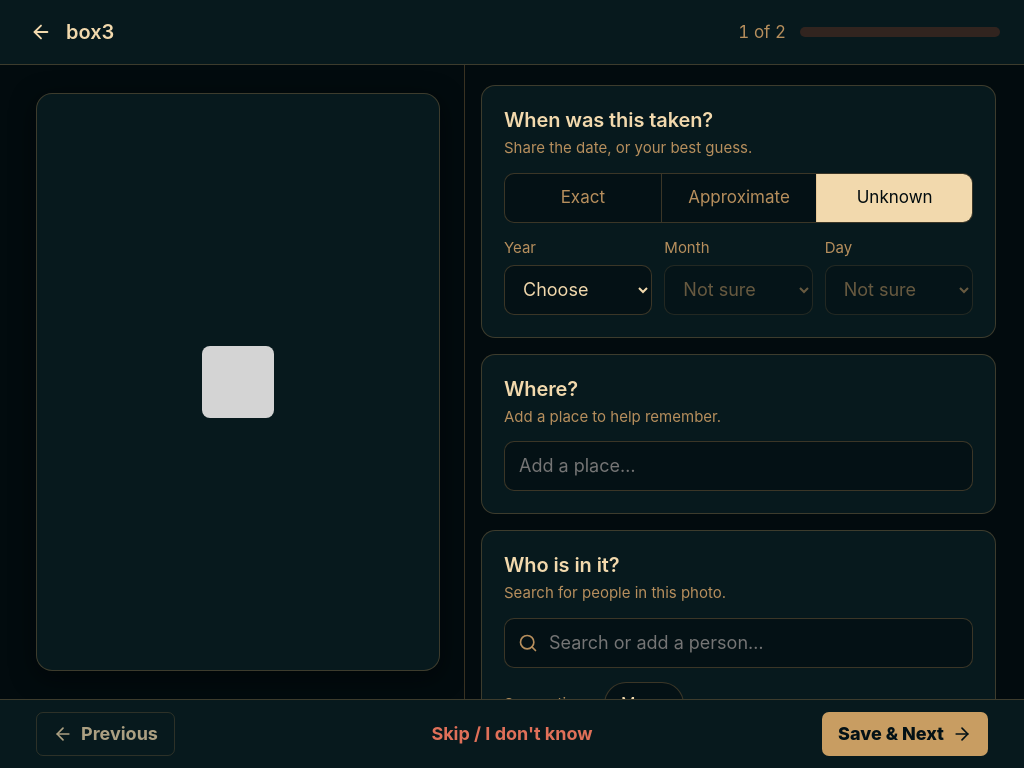
Test: ReviewPage › looks a place up online only when asked, and a pin can be left off
Expected: the text "1 of 2" is shown, [738, 20, 786, 44]
Type "Ratomka" into the field named "Where?" at (738, 466), box [504, 441, 973, 491]
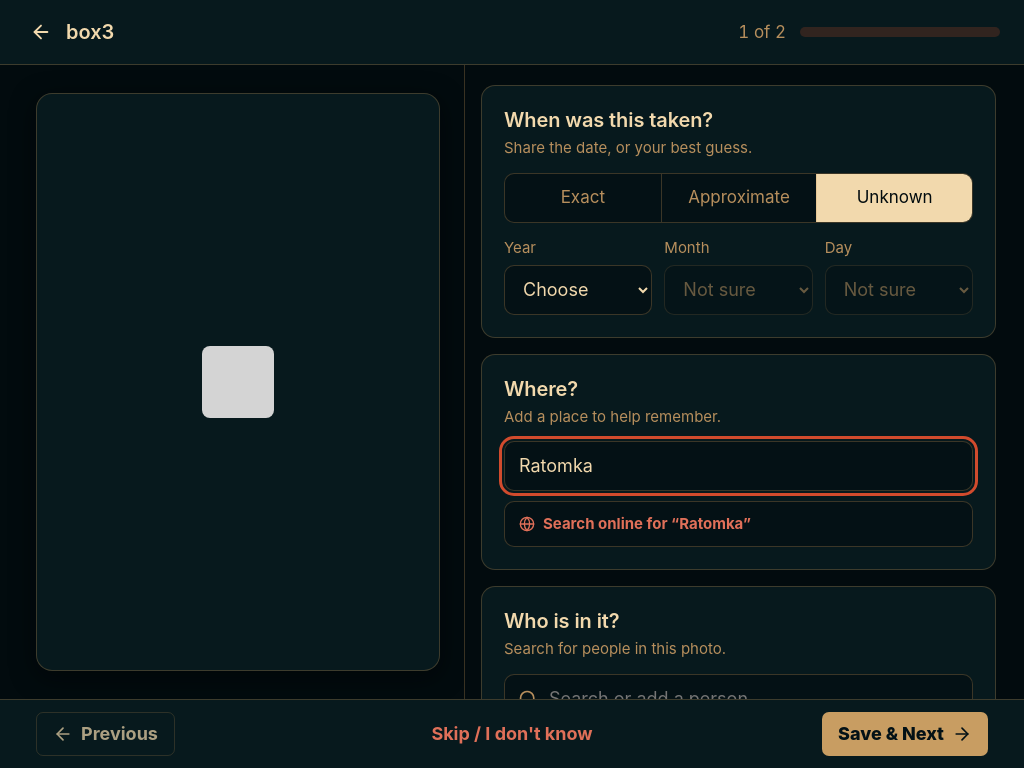
Click the button "Search online for “Ratomka”" at (635, 524), box [509, 506, 761, 542]
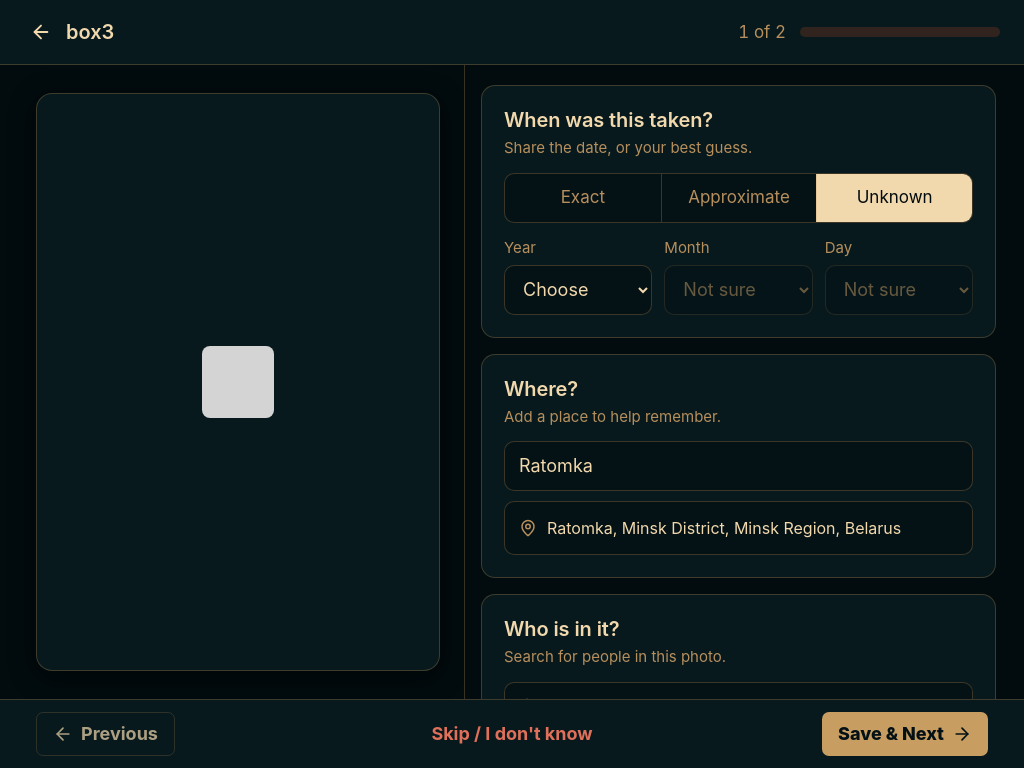
Click the button "Ratomka, Minsk District, Minsk Region, Belarus" at (738, 528), box [509, 506, 968, 550]
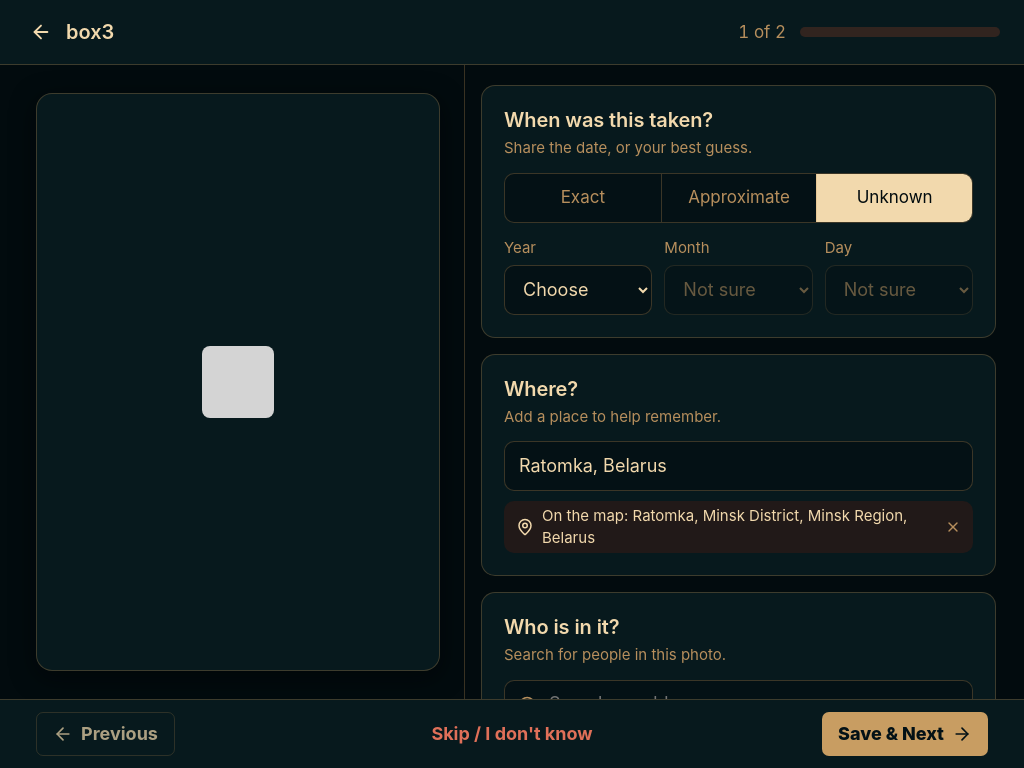
Expected: the field named "Where?" holds "Ratomka, Belarus", [504, 441, 973, 491]
Click the button named "Do not put it on the map" at (953, 527), box [937, 511, 969, 543]
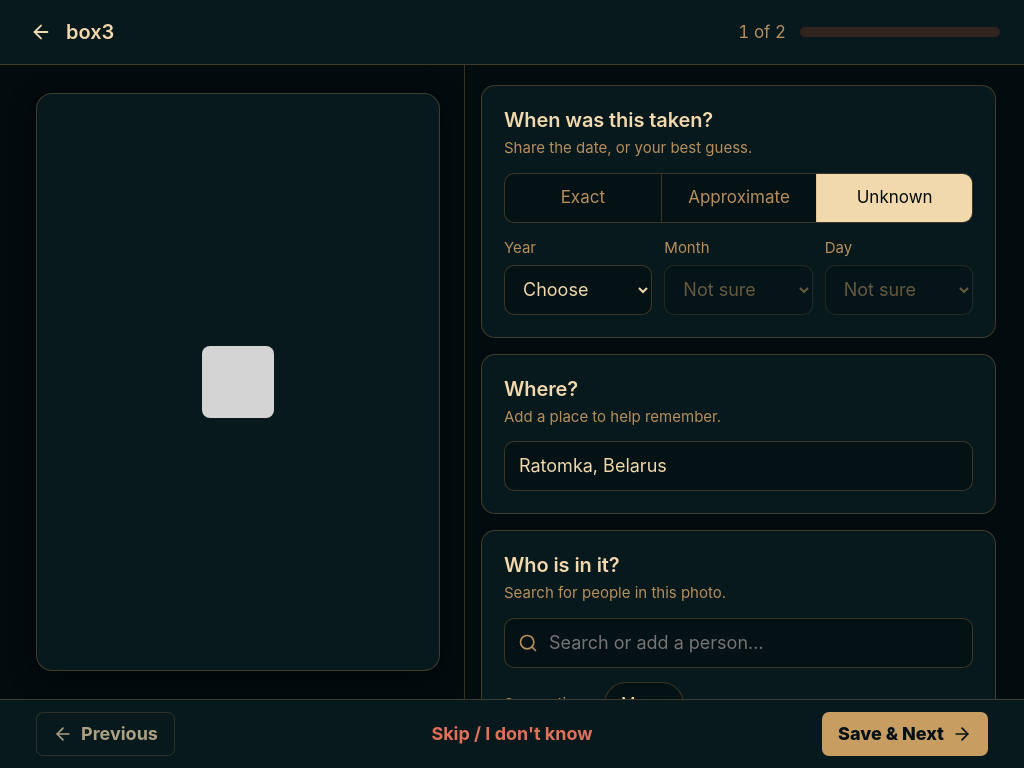
Click the button "Save & Next" at (905, 734), box [822, 712, 988, 756]
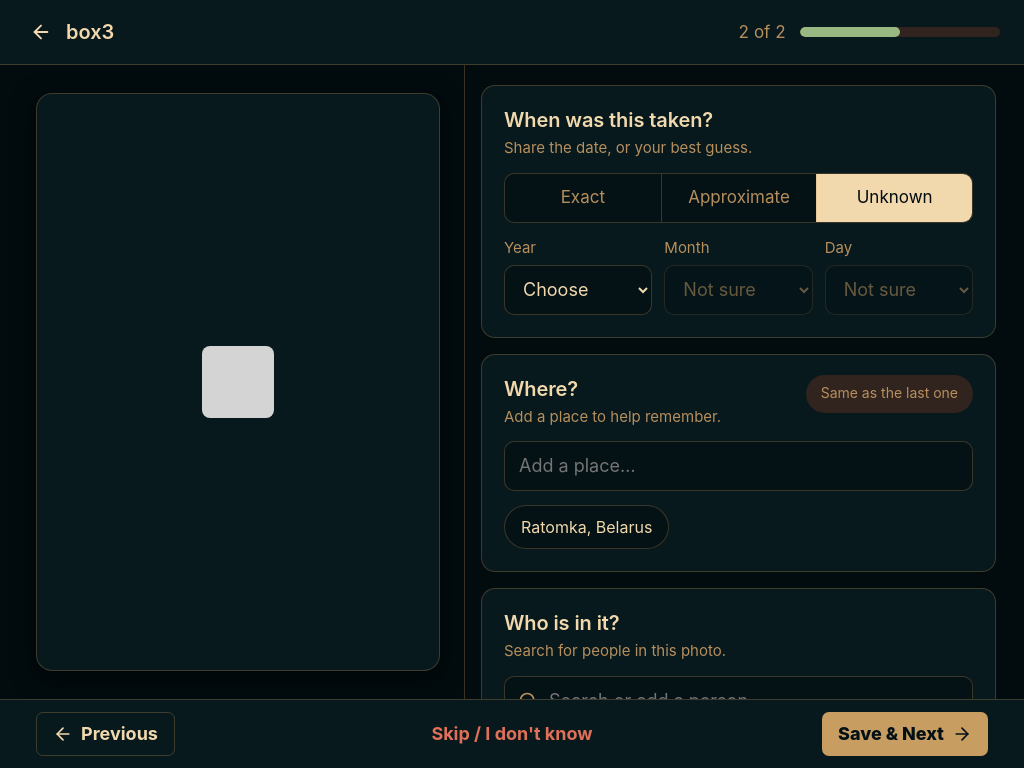
Expected: the button "Ratomka, Belarus" is shown, [504, 505, 669, 549]
